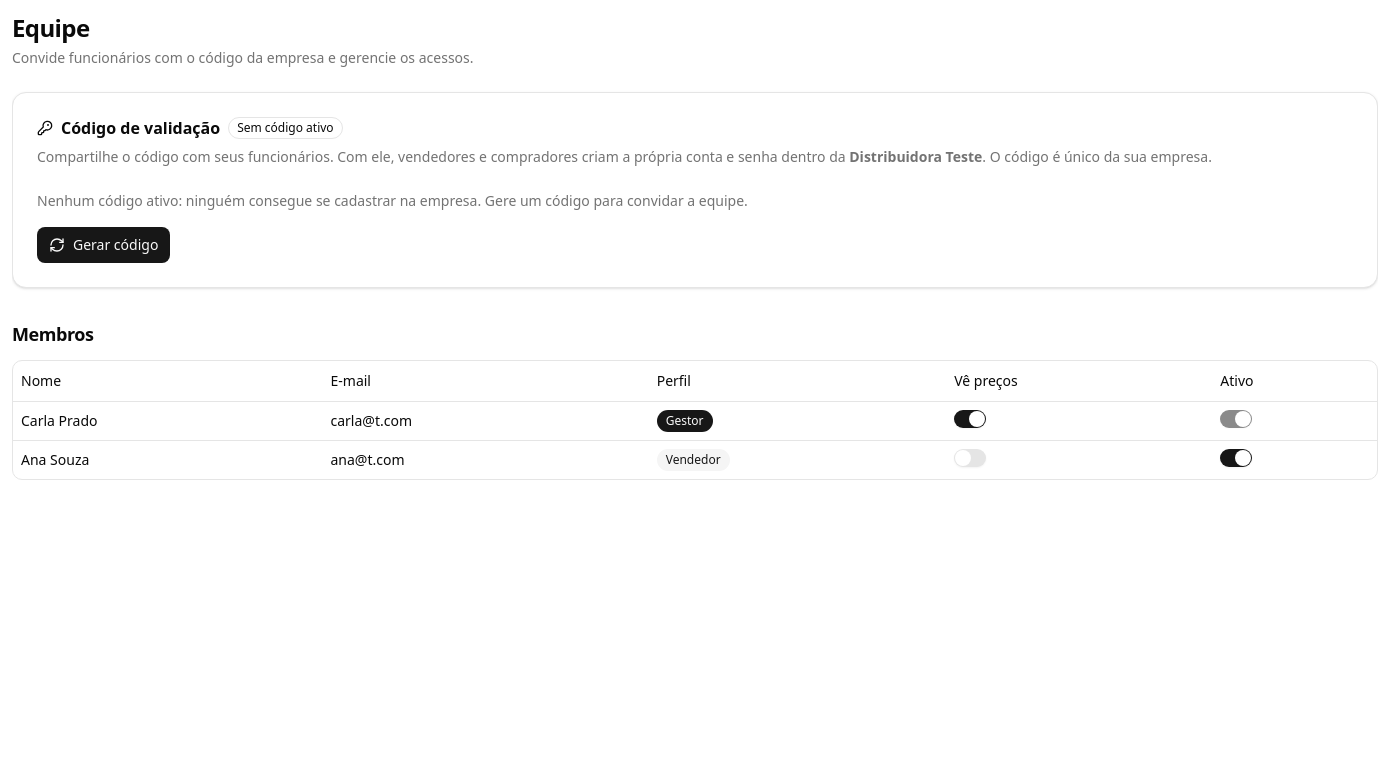
Equipe (gestor) › sem código ativo, o gestor gera o código e ele aparece formatado
The image size is (1378, 780).
Expected: the text "Sem código ativo" is shown, [228,117,343,139]
What coordinates should you click on to do the following:
click the button "Gerar código"
I would click on:
 (104, 245)
Its box is [37,227,170,263].
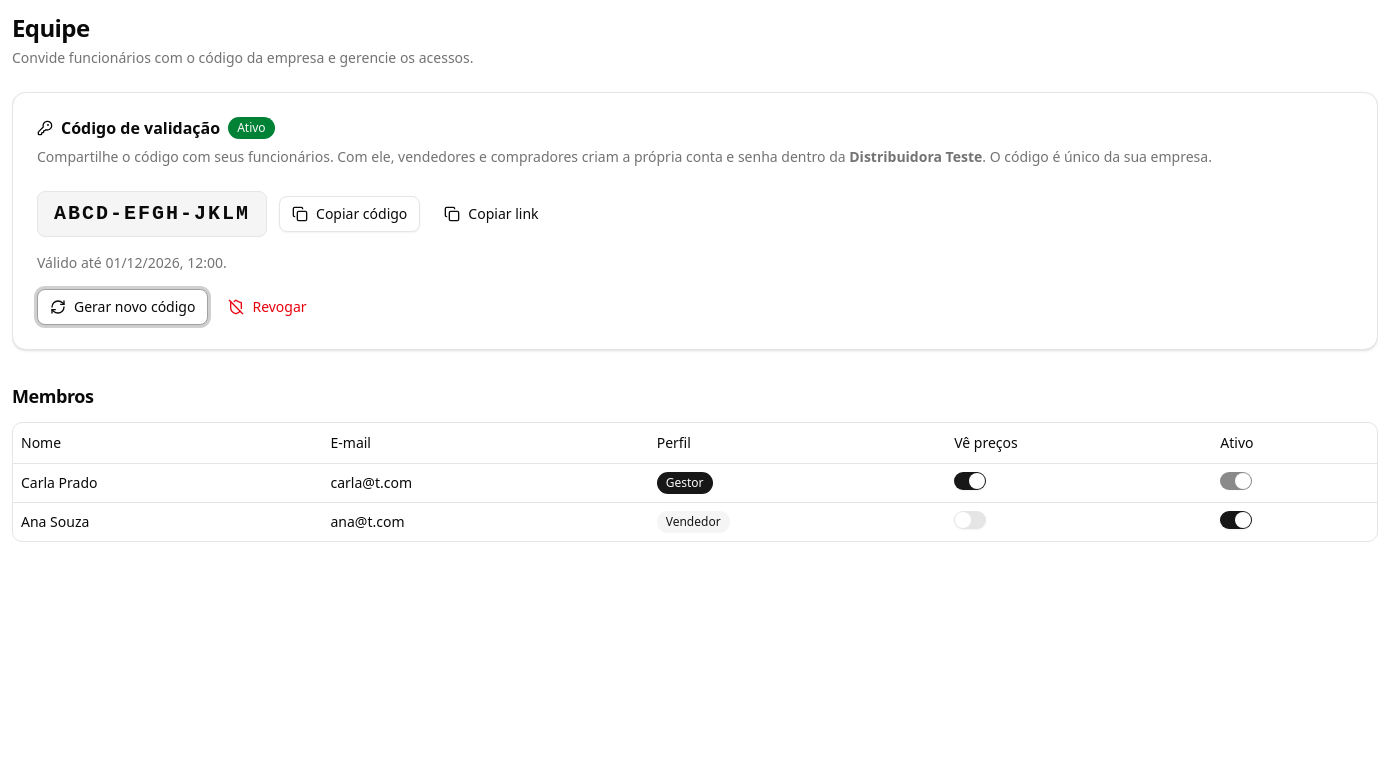
Now the text named "Código de validação" reads "ABCD-EFGH-JKLM", box [54,202,250,225]
Now the text "Sem código ativo" is gone
